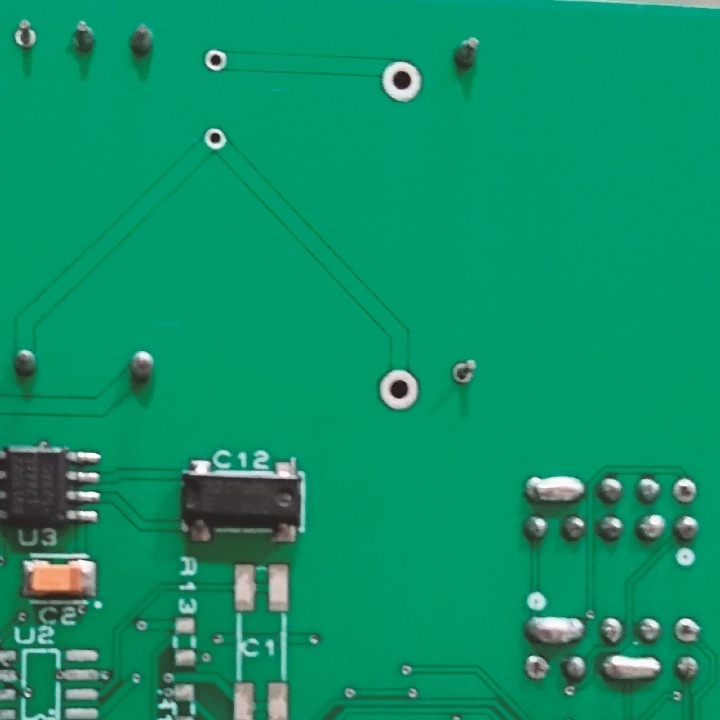F: (376, 366, 424, 414), (380, 58, 424, 108), (670, 472, 699, 510), (449, 357, 479, 388), (521, 651, 550, 682), (13, 18, 39, 52), (202, 46, 229, 75), (675, 613, 701, 643), (202, 126, 227, 152)
P: (523, 472, 588, 510), (524, 609, 587, 648), (599, 652, 666, 686)
